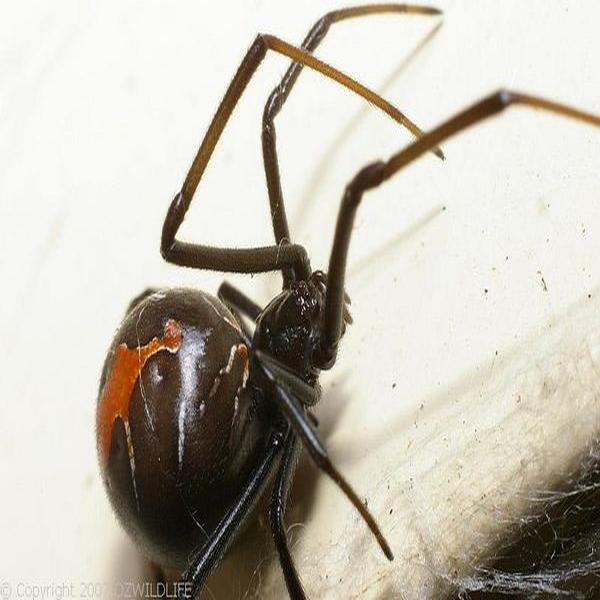Redback Spider: (101, 7, 521, 560)
